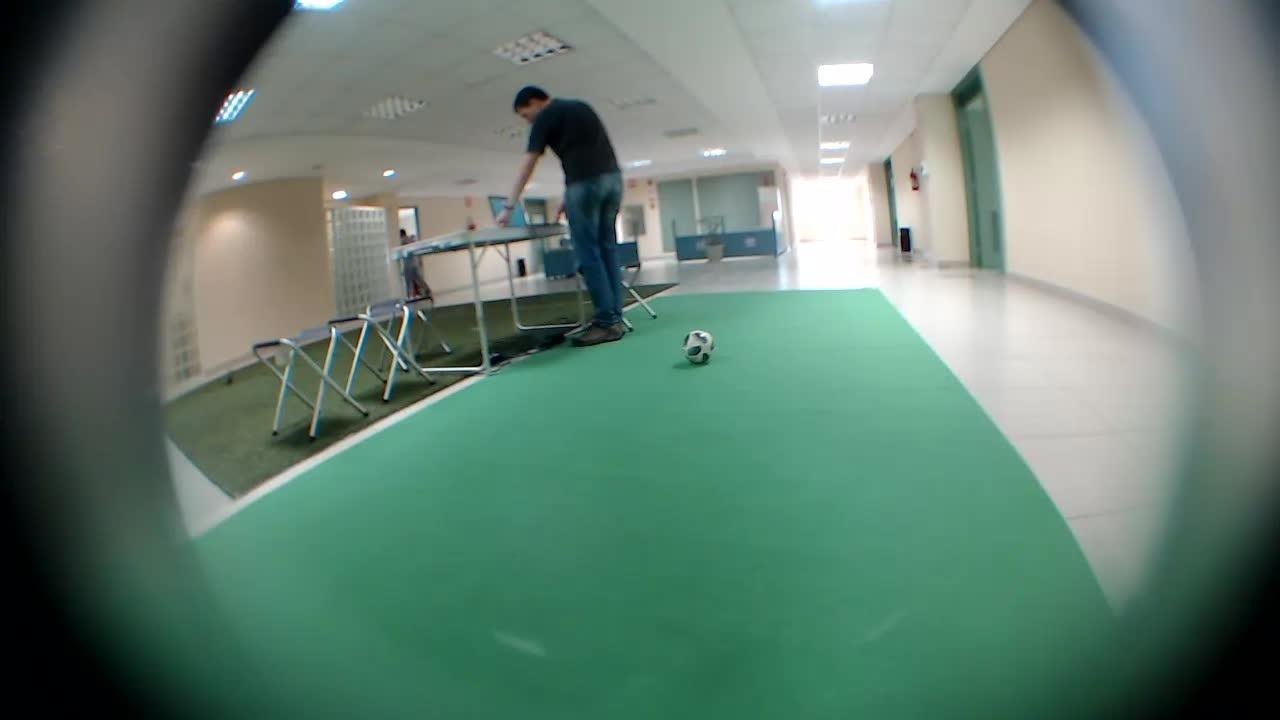ball: (671, 319, 716, 364)
